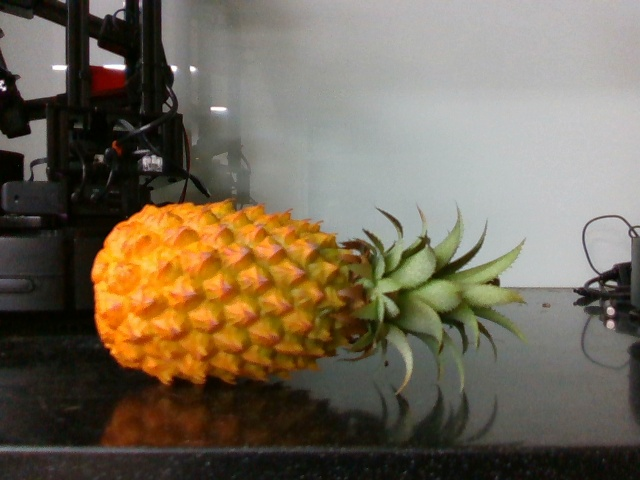pineapple: (85, 197, 527, 389)
